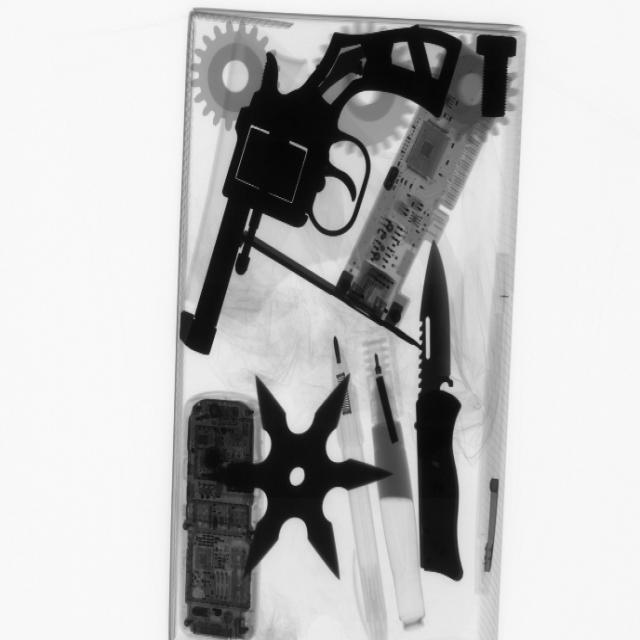GUN: (184, 17, 475, 359)
KNIFE: (403, 248, 480, 588)
SHURIKEN: (213, 372, 386, 589)
